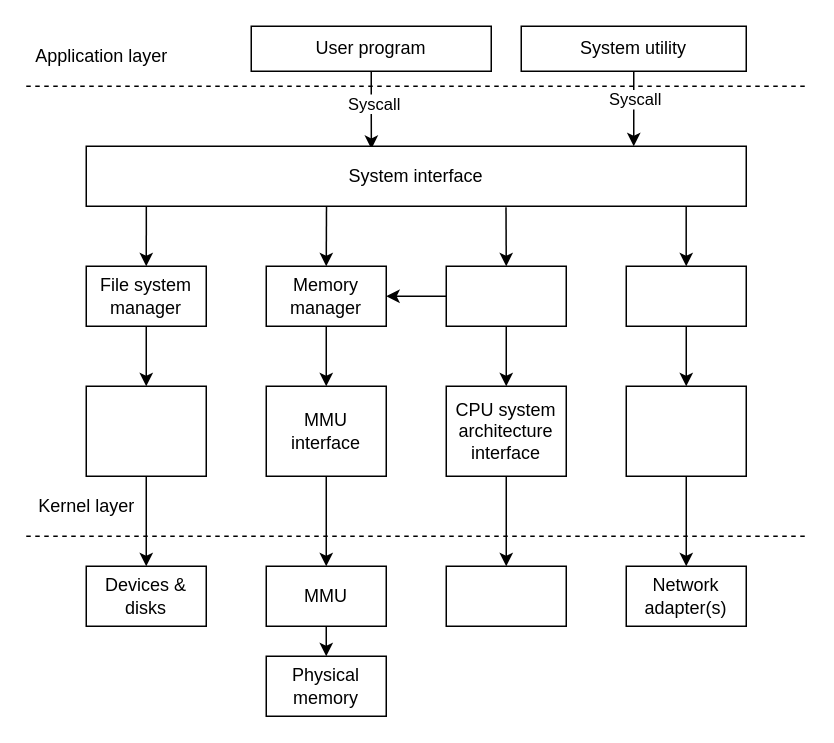
The diagram is 834 pixels wide and 743 high, and some of its shapes have lost their labels. Here are the shapes that lost their labels. From the top down, the centre of each, then its label:
At [505,295]: "Process manager".
At [685,295]: "Network manager".
At [145,430]: "Device drivers".
At [685,430]: "Device & protocol drivers".
At [505,595]: "CPU(s)".
